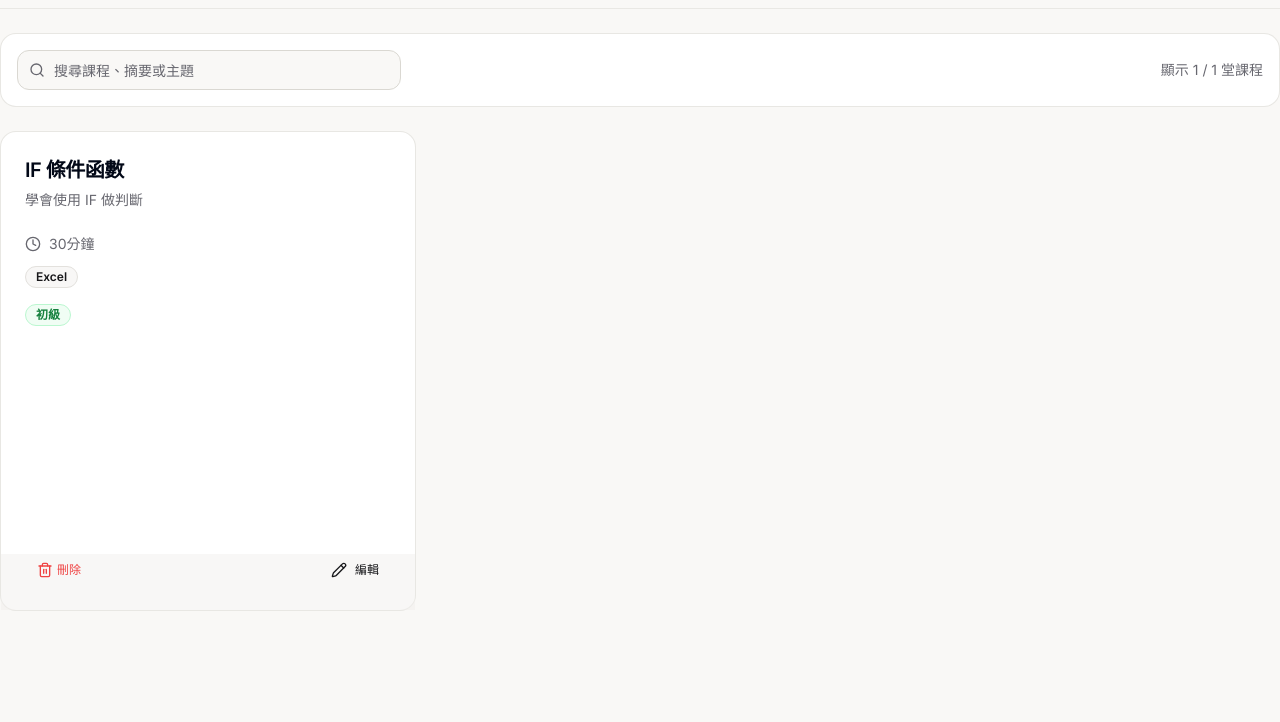
Scenario: lesson editor experience › adds and removes exercises while keeping form values in sync
Later steps or results of the test are not shown.
Click the button "編輯" at (355, 570), box [319,554,391,586]
(page scrolled)
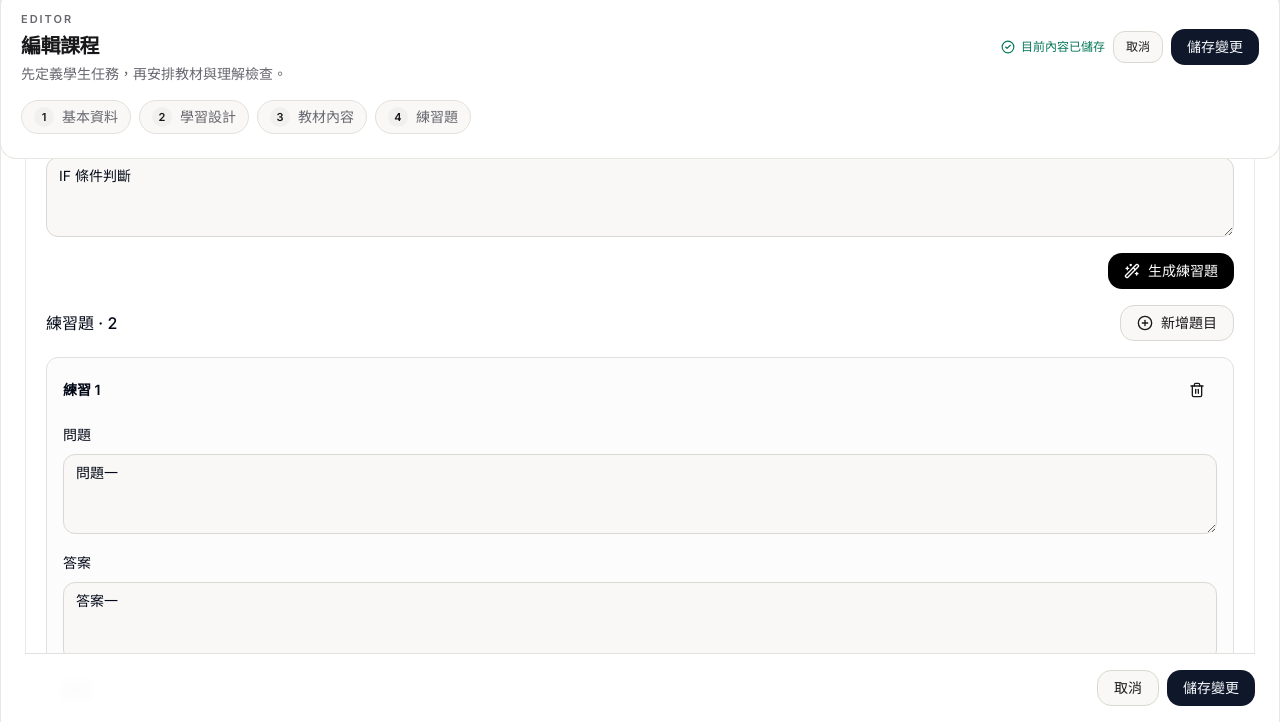
Click the button "新增題目" at (1177, 322), box [1120,304,1234,340]
(page scrolled)
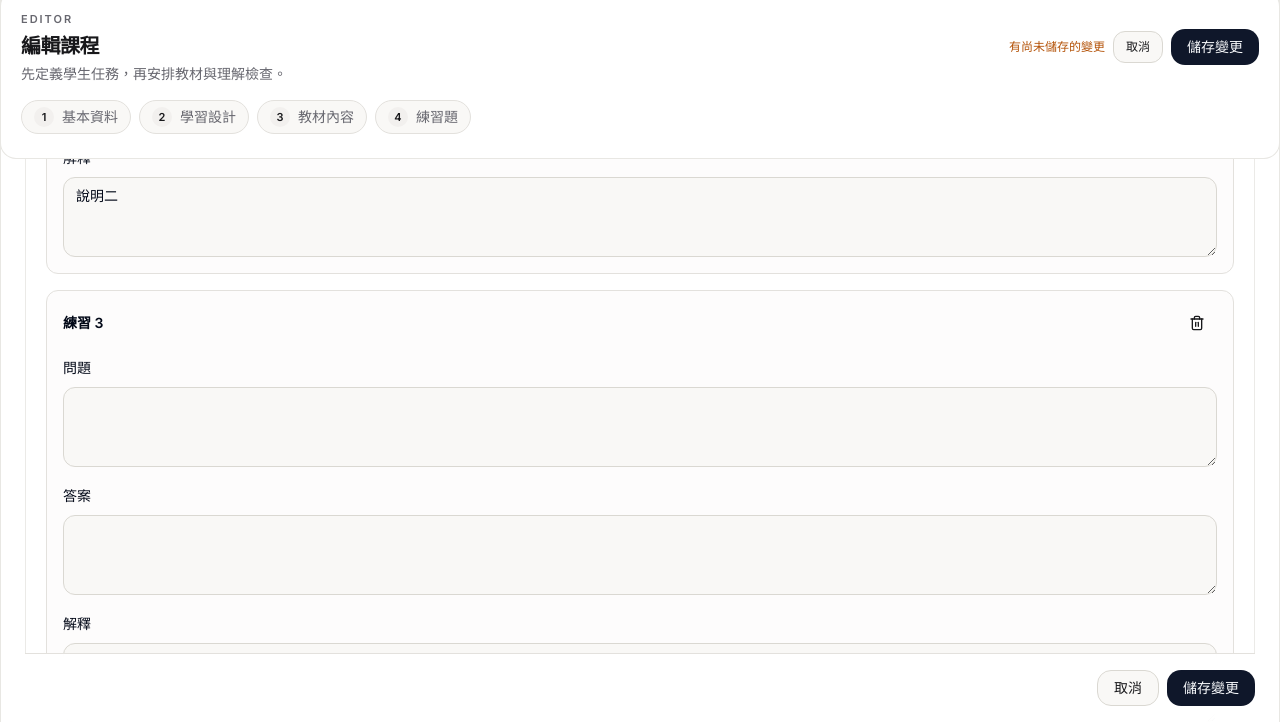
Now the heading "練習 3" is shown, box [63,312,103,332]
Click the button named "刪除練習 3" at (1197, 322), box [1177,306,1217,338]
(page scrolled)
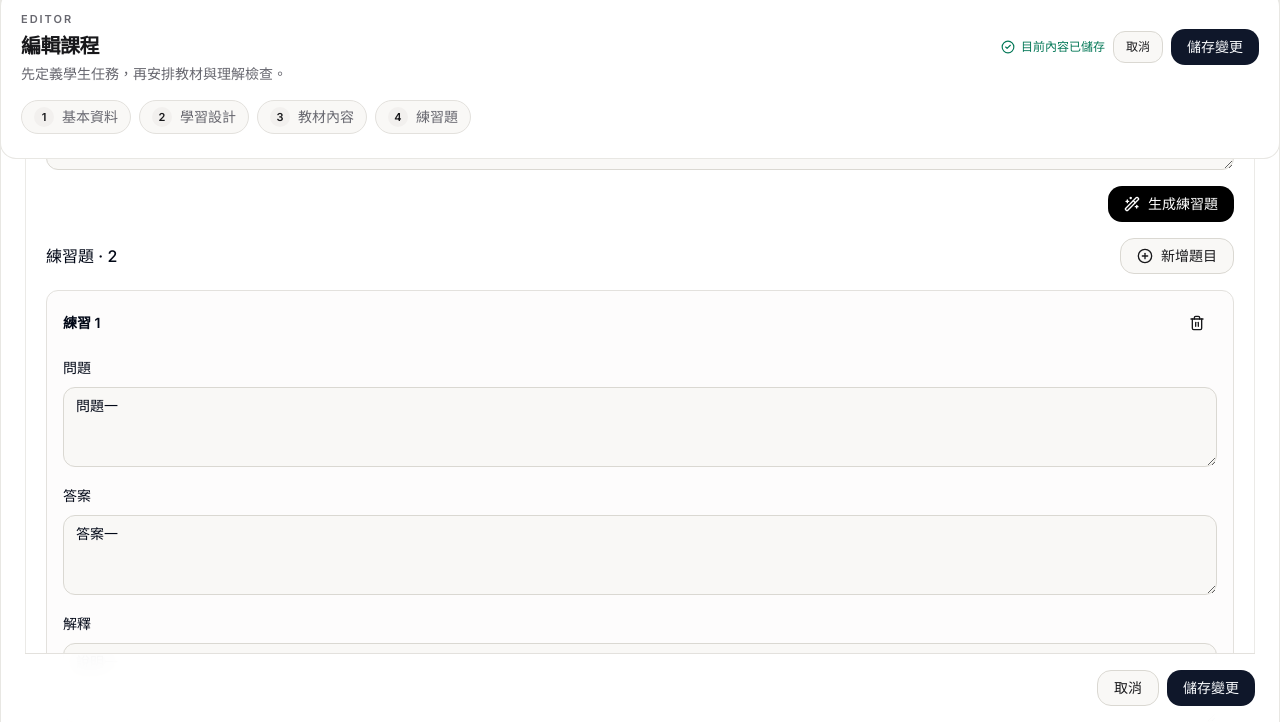
Click the button named "刪除練習 1" at (1197, 322), box [1177,306,1217,338]
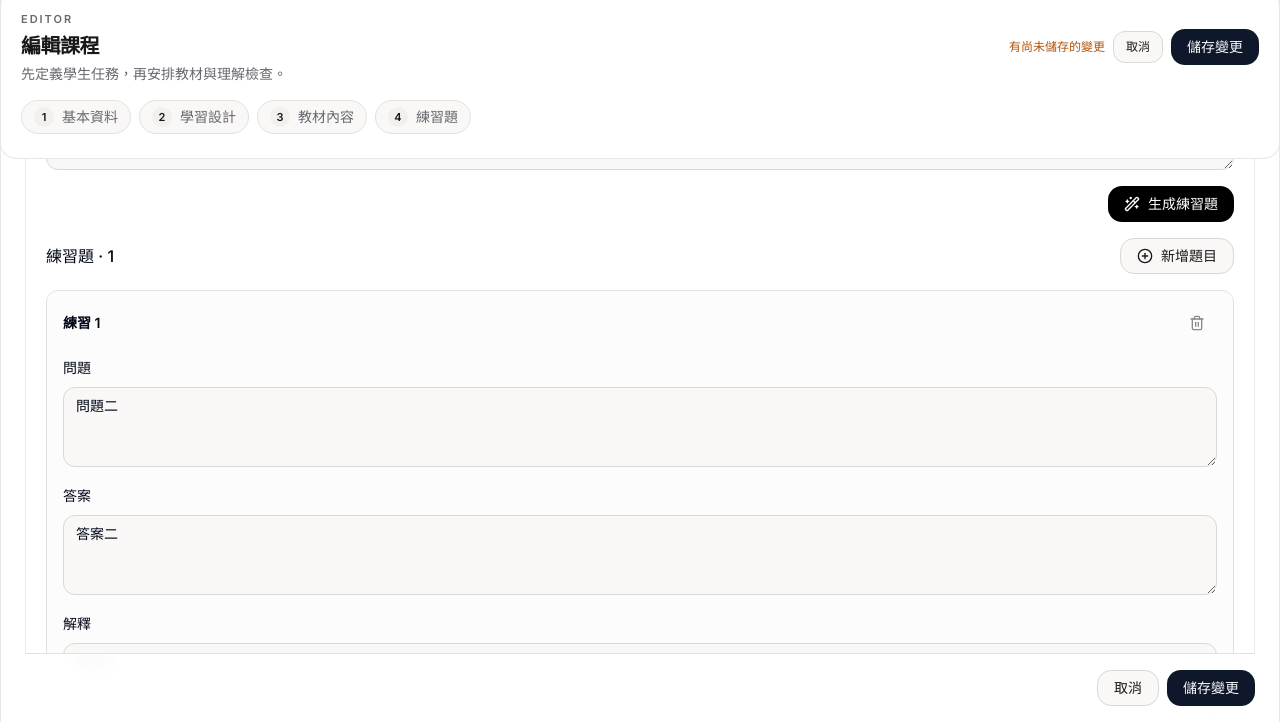
Now the text box showing "問題二" is shown, box [63,386,1217,466]
